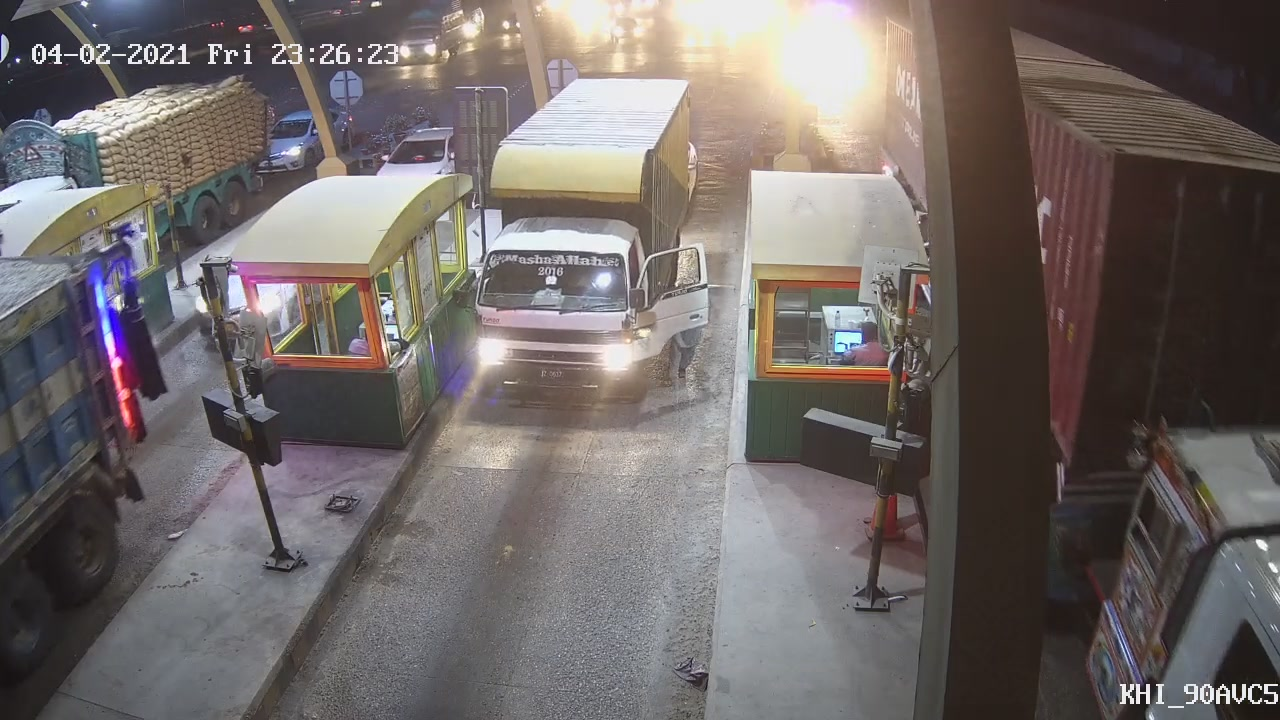F5: (449, 73, 701, 408)
